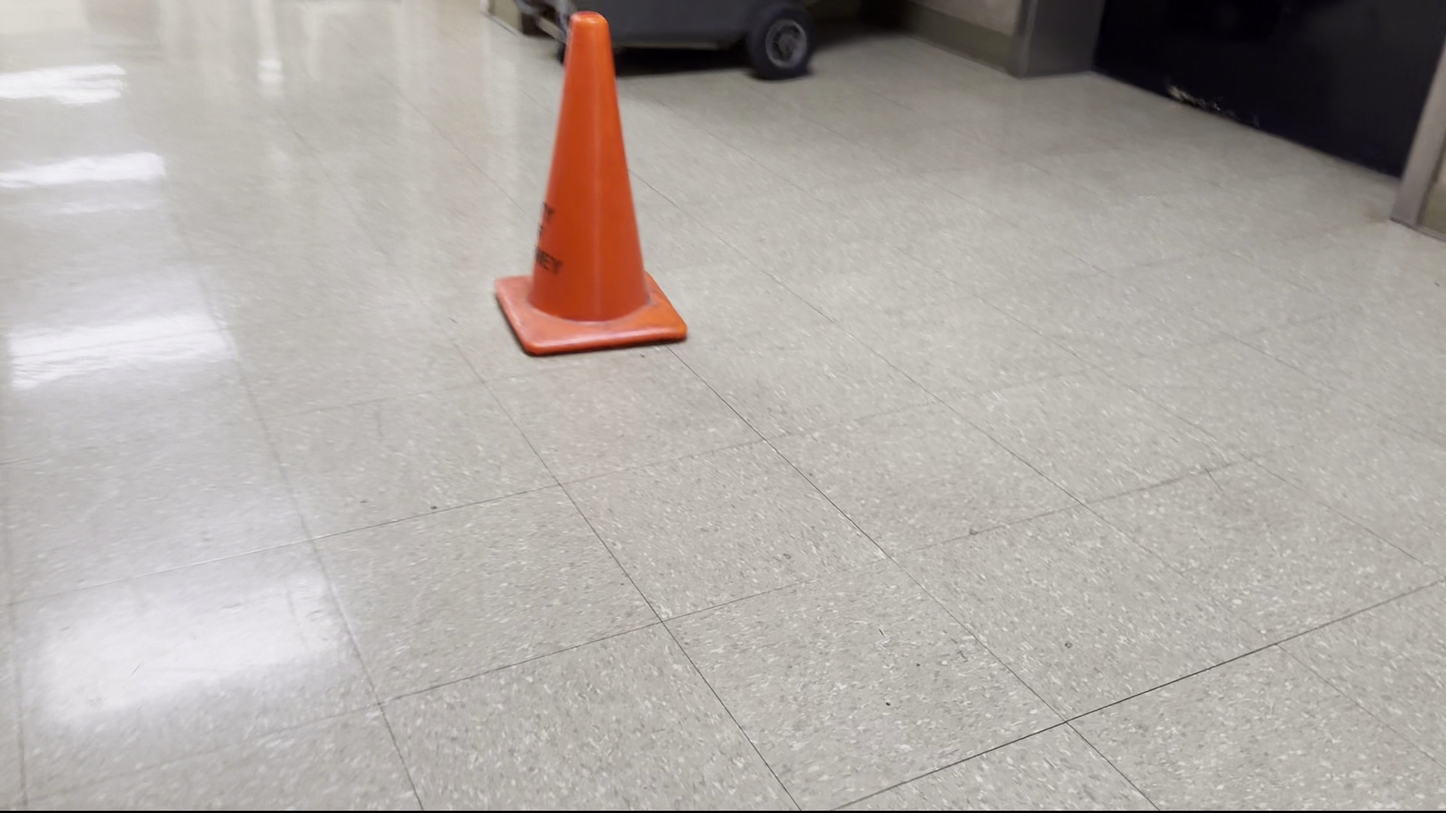traffic_cone: (493, 10, 688, 357)
